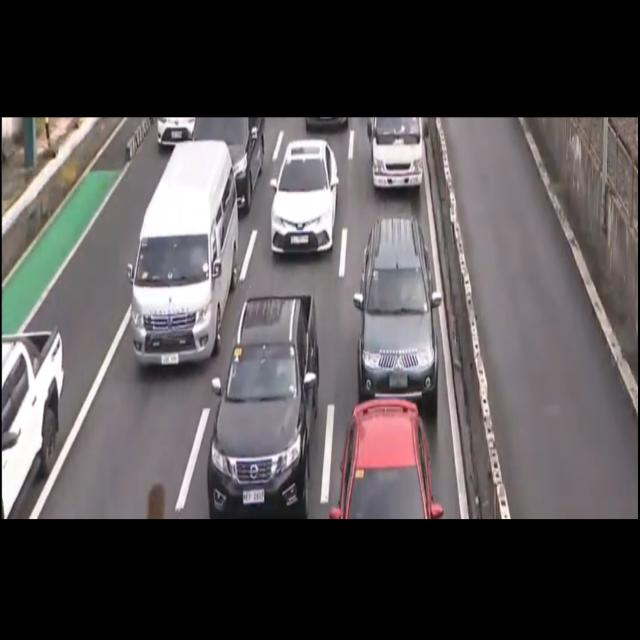SUV: (208, 296, 317, 511), (356, 222, 436, 406), (0, 330, 65, 512)
Sedan: (329, 398, 444, 523), (268, 140, 340, 260)
Truck: (370, 113, 422, 197)
Van: (125, 142, 238, 369)
